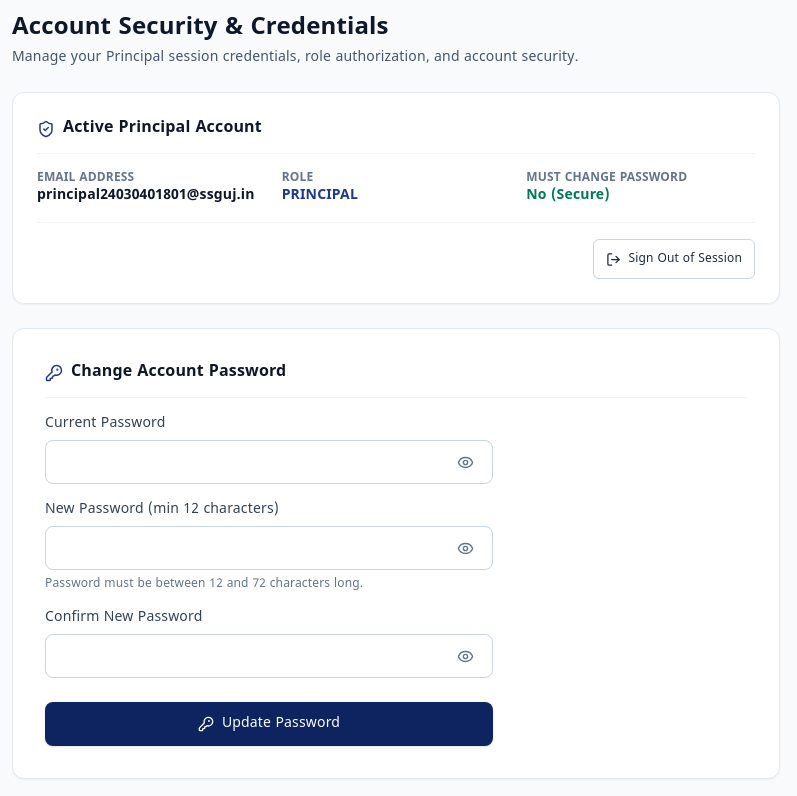
Test case: AdminAccountPage › toggles each password field independently
The image size is (797, 796).
What coordinates should you click on to do the following:
click the 1st button named "Show password"
I would click on:
 (465, 462)
Its box is [443,440,487,484].
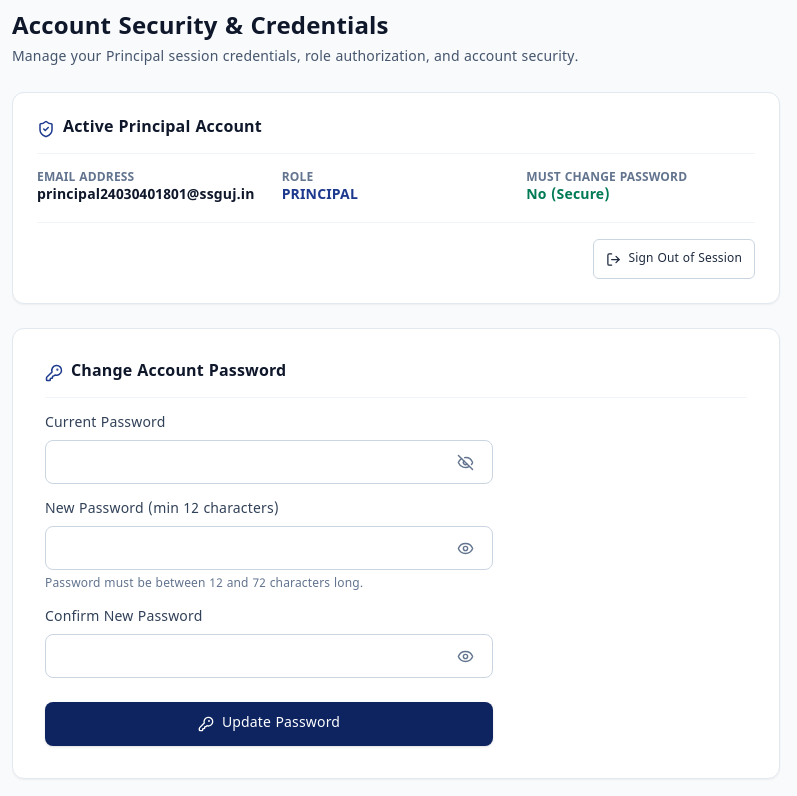
Check: the button named "Hide password" is shown, box [443,440,487,484]
